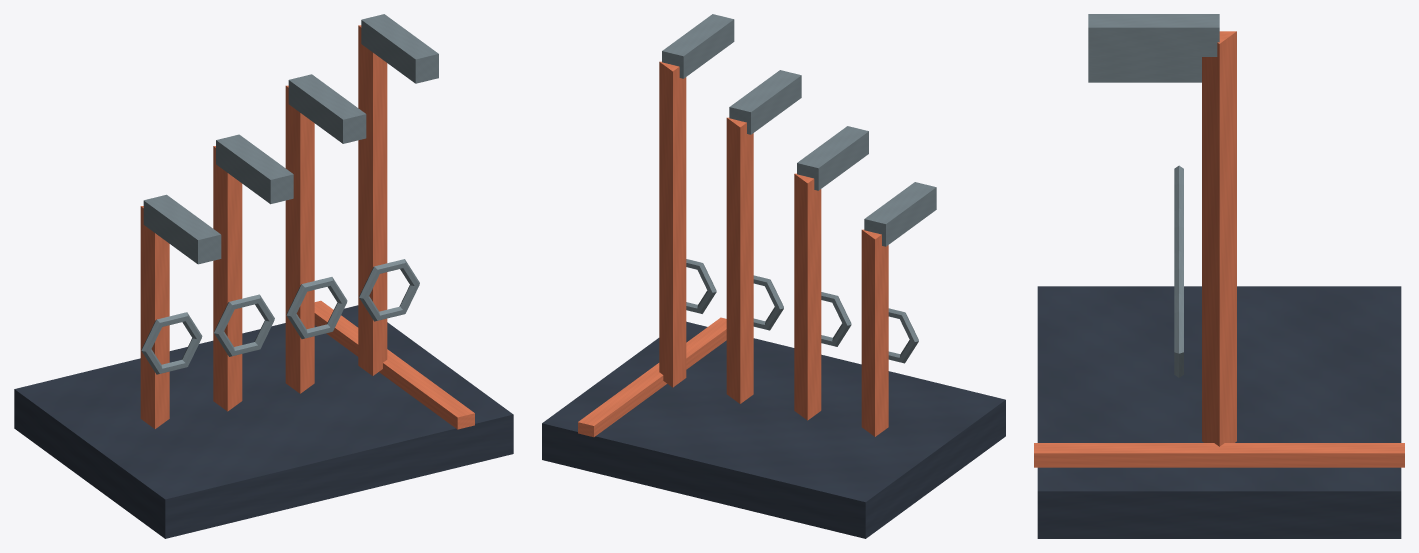
The model's file is atlas100-s025-a03.lod2.glb.
The picture shows the model from 3 angles, left to right: view 1: azimuth 30°, elevation 25°; view 2: azimuth 150°, elevation 25°; view 3: azimuth 270°, elevation 25°; orthographic projection. The views are drawn at different scales.
Visible parts, largest first — view 1: atlas100-s025-a03:part-000, atlas100-s025-a03:part-012, atlas100-s025-a03:part-009, atlas100-s025-a03:part-006, atlas100-s025-a03:part-003, atlas100-s025-a03:part-002, atlas100-s025-a03:part-011, atlas100-s025-a03:part-005, atlas100-s025-a03:part-014, atlas100-s025-a03:part-008, atlas100-s025-a03:part-013, atlas100-s025-a03:part-007 (+2 smaller); view 2: atlas100-s025-a03:part-000, atlas100-s025-a03:part-012, atlas100-s025-a03:part-009, atlas100-s025-a03:part-006, atlas100-s025-a03:part-003, atlas100-s025-a03:part-002, atlas100-s025-a03:part-014, atlas100-s025-a03:part-005, atlas100-s025-a03:part-011, atlas100-s025-a03:part-008, atlas100-s025-a03:part-004, atlas100-s025-a03:part-010 (+2 smaller); view 3: atlas100-s025-a03:part-000, atlas100-s025-a03:part-012, atlas100-s025-a03:part-002, atlas100-s025-a03:part-014, atlas100-s025-a03:part-005, atlas100-s025-a03:part-008, atlas100-s025-a03:part-011, atlas100-s025-a03:part-013.
Boxes of the visible parts, x1=… form: atlas100-s025-a03:part-000: x1=14, y1=305, x2=513, y2=538; atlas100-s025-a03:part-012: x1=358, y1=25, x2=387, y2=375; atlas100-s025-a03:part-009: x1=285, y1=85, x2=314, y2=393; atlas100-s025-a03:part-006: x1=213, y1=146, x2=242, y2=411; atlas100-s025-a03:part-003: x1=140, y1=206, x2=169, y2=428; atlas100-s025-a03:part-002: x1=314, y1=300, x2=474, y2=429; atlas100-s025-a03:part-011: x1=288, y1=74, x2=366, y2=143; atlas100-s025-a03:part-005: x1=143, y1=194, x2=221, y2=264; atlas100-s025-a03:part-014: x1=361, y1=14, x2=438, y2=83; atlas100-s025-a03:part-008: x1=216, y1=134, x2=293, y2=204; atlas100-s025-a03:part-013: x1=359, y1=259, x2=419, y2=321; atlas100-s025-a03:part-007: x1=214, y1=294, x2=274, y2=356; atlas100-s025-a03:part-000: x1=542, y1=321, x2=1005, y2=538; atlas100-s025-a03:part-012: x1=659, y1=61, x2=686, y2=387; atlas100-s025-a03:part-009: x1=726, y1=117, x2=753, y2=403; atlas100-s025-a03:part-006: x1=794, y1=173, x2=821, y2=420; atlas100-s025-a03:part-003: x1=861, y1=229, x2=888, y2=436; atlas100-s025-a03:part-002: x1=578, y1=317, x2=726, y2=437; atlas100-s025-a03:part-014: x1=662, y1=14, x2=734, y2=78; atlas100-s025-a03:part-005: x1=864, y1=182, x2=936, y2=246; atlas100-s025-a03:part-011: x1=729, y1=70, x2=801, y2=134; atlas100-s025-a03:part-008: x1=797, y1=126, x2=868, y2=190; atlas100-s025-a03:part-004: x1=888, y1=308, x2=918, y2=363; atlas100-s025-a03:part-010: x1=753, y1=275, x2=783, y2=330; atlas100-s025-a03:part-000: x1=1037, y1=286, x2=1401, y2=538; atlas100-s025-a03:part-012: x1=1202, y1=31, x2=1236, y2=446; atlas100-s025-a03:part-002: x1=1034, y1=443, x2=1404, y2=467; atlas100-s025-a03:part-014: x1=1088, y1=14, x2=1219, y2=56; atlas100-s025-a03:part-005: x1=1088, y1=74, x2=1201, y2=82; atlas100-s025-a03:part-008: x1=1088, y1=65, x2=1201, y2=73; atlas100-s025-a03:part-011: x1=1088, y1=57, x2=1201, y2=65; atlas100-s025-a03:part-013: x1=1174, y1=293, x2=1183, y2=377.
Size of the model in its own units: 2.4 by 2.62 by 1.84.
3 materials, 3 textured.
